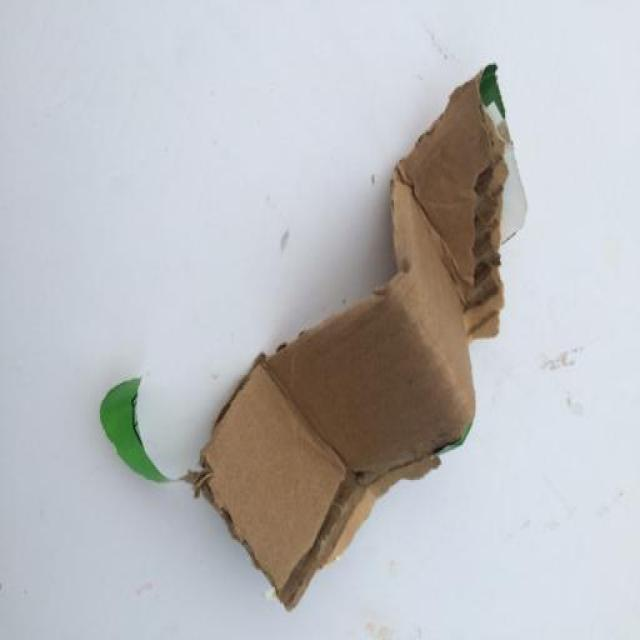cardboard: (99, 65, 529, 615)
